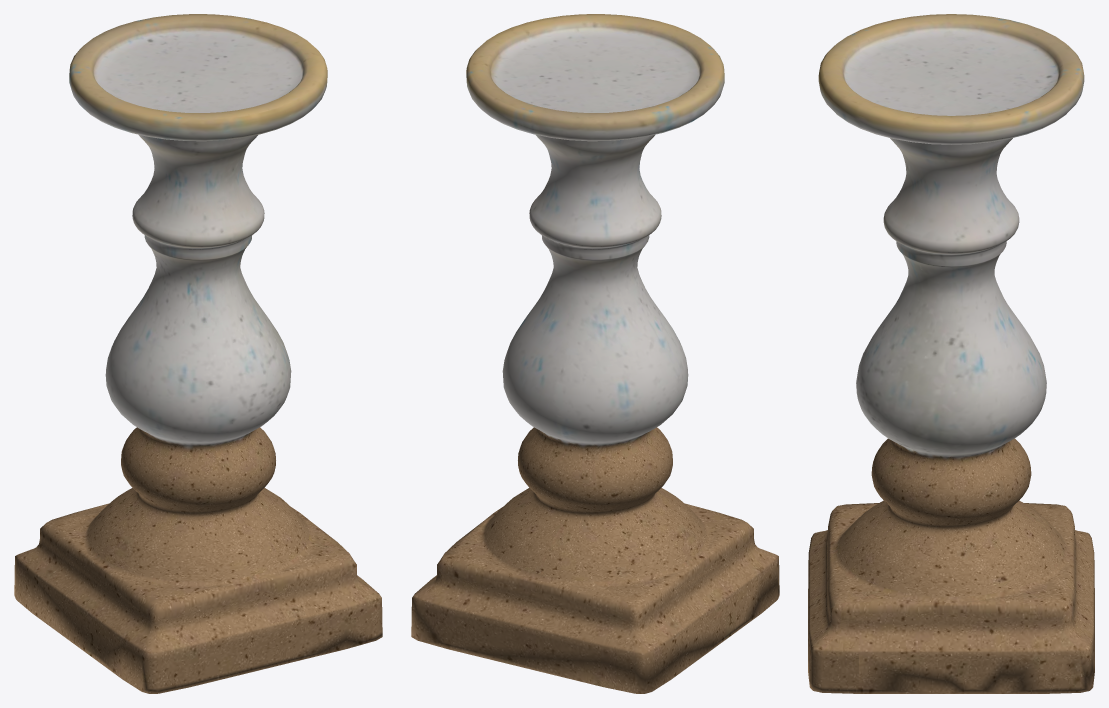
3 views of the same model, side by side, from view 1: azimuth 30°, elevation 25°; view 2: azimuth 150°, elevation 25°; view 3: azimuth 270°, elevation 25° (orthographic). The views are drawn at different scales.
Visible parts, largest first — view 1: RootNode; view 2: RootNode; view 3: RootNode.
Part boxes in pixels (box(x1,y1,x2,y2)): RootNode: box(14, 14, 382, 693); RootNode: box(411, 14, 779, 693); RootNode: box(808, 14, 1094, 693).
Bounding box in the file's own units: 0.1096 × 0.2389 × 0.1096.
1 material, 1 textured.
